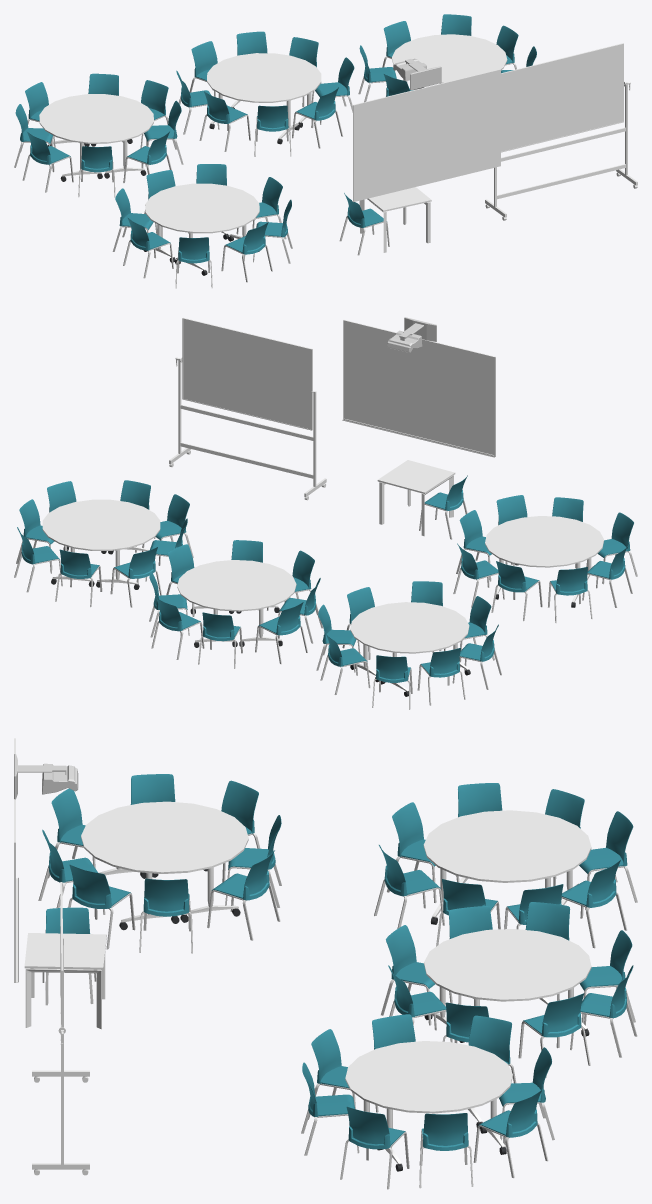
The model's file is SALLE_A2.fbx.
The picture shows the model from 3 angles, top to bottom: view 1: azimuth 30°, elevation 25°; view 2: azimuth 150°, elevation 25°; view 3: azimuth 270°, elevation 25°; orthographic projection. The views are drawn at different scales.
Parts seen in each view (by area): view 1: chaise_dossier_A2, table_ronde_A2, tableau_A2, tableau_roulant3:tableau_roulant, chaise_pieds_A2, table_simple_A2, tableau_projo_A2, table_ronde_roues_A2; view 2: chaise_dossier_A2, table_ronde_A2, tableau_A2, tableau_roulant3:tableau_roulant, chaise_pieds_A2, table_simple_A2, tableau_projo_A2; view 3: chaise_dossier_A2, table_ronde_A2, chaise_pieds_A2, table_simple_A2, tableau_roulant3:tableau_roulant, tableau_projo_A2, tableau_A2, table_ronde_roues_A2.
Part boxes in pixels (<box>): chaise_dossier_A2: <box>15,14,536,263</box>; table_ronde_A2: <box>39,34,507,270</box>; tableau_A2: <box>352,69,500,201</box>; tableau_roulant3:tableau_roulant: <box>485,43,637,220</box>; chaise_pieds_A2: <box>14,56,516,288</box>; table_simple_A2: <box>359,187,431,252</box>; tableau_projo_A2: <box>393,58,441,90</box>; table_ronde_roues_A2: <box>47,87,423,275</box>; chaise_dossier_A2: <box>17,475,633,682</box>; table_ronde_A2: <box>42,499,603,691</box>; tableau_A2: <box>342,320,495,457</box>; tableau_roulant3:tableau_roulant: <box>169,317,326,500</box>; chaise_pieds_A2: <box>14,500,637,709</box>; table_simple_A2: <box>377,460,455,536</box>; tableau_projo_A2: <box>387,317,436,352</box>; chaise_dossier_A2: <box>42,774,633,1150</box>; table_ronde_A2: <box>81,801,591,1164</box>; chaise_pieds_A2: <box>38,833,637,1189</box>; table_simple_A2: <box>24,933,106,1029</box>; tableau_roulant3:tableau_roulant: <box>32,882,89,1175</box>; tableau_projo_A2: <box>14,754,78,799</box>; tableau_A2: <box>14,738,18,982</box>; table_ronde_roues_A2: <box>119,869,589,1171</box>.
Size of the model in its own units: 774 by 272 by 595.
